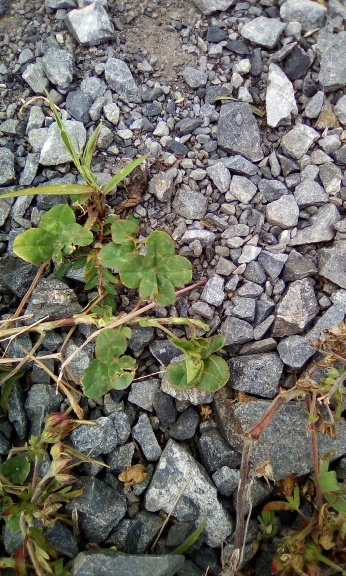4leaf: (118, 230, 194, 309)
